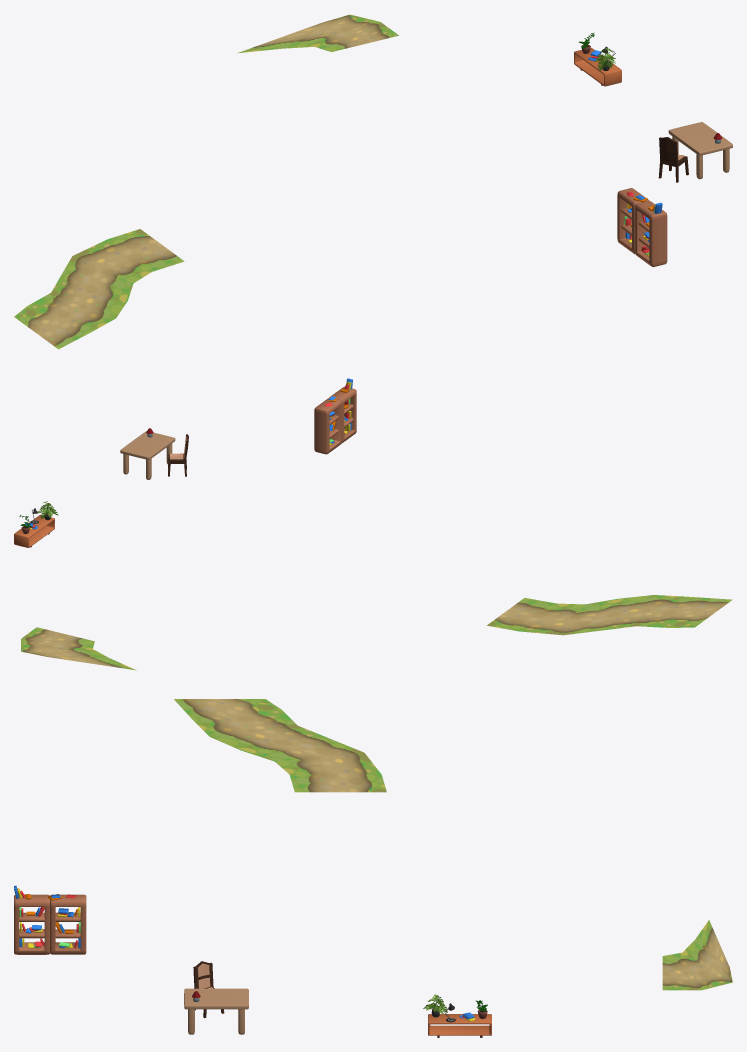
Rendered from dDShape Sampleroom - Deko.glb.
3 renders of one model, top to bottom at view 1: azimuth 30°, elevation 25°; view 2: azimuth 150°, elevation 25°; view 3: azimuth 270°, elevation 25°, orthographic. The views are drawn at different scales.
Visible parts, largest first — view 1: D-Room Deko Suburb; view 2: D-Room Deko Suburb; view 3: D-Room Deko Suburb.
Boxes of the visible parts, box(x1,y1,x2,y2) form: D-Room Deko Suburb: box(14, 14, 732, 349); D-Room Deko Suburb: box(14, 378, 732, 670); D-Room Deko Suburb: box(14, 699, 732, 1037).
Size of the model in its own units: 20.25 by 2.08 by 17.71.
3 materials, 2 textured.
